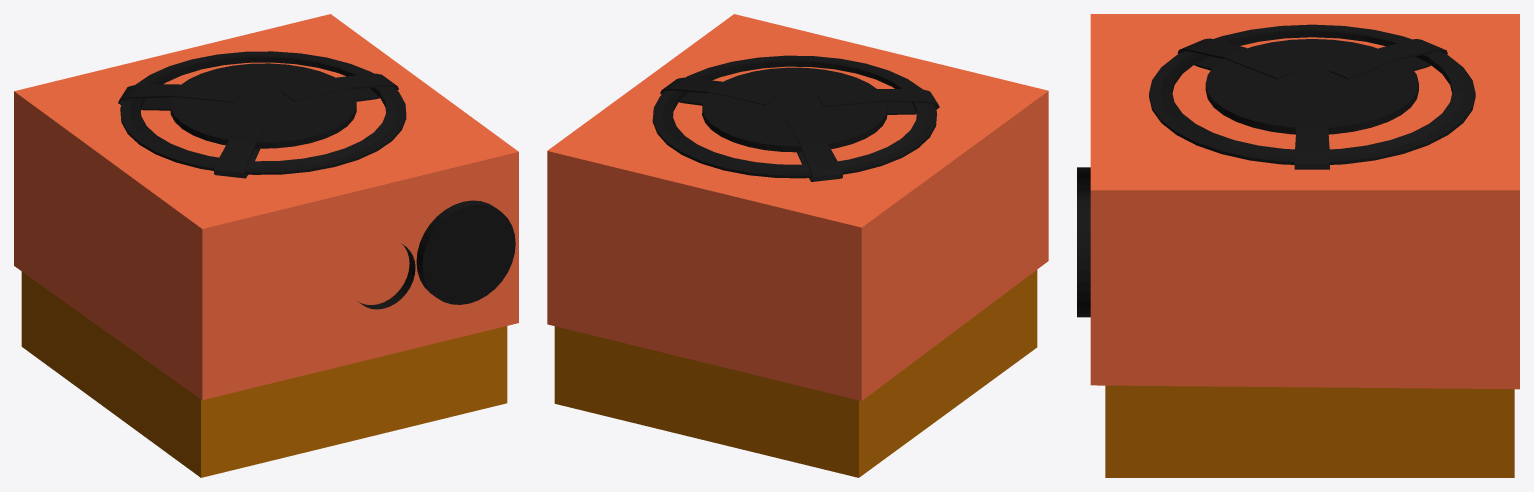
File: stove.fbx
The picture shows the model from 3 angles, left to right: view 1: azimuth 30°, elevation 25°; view 2: azimuth 150°, elevation 25°; view 3: azimuth 270°, elevation 25°; orthographic projection. The views are drawn at different scales.
Parts seen in each view (by area): view 1: Countertop1.001, firePlace, button2, grid, Plane.001, Plane.002, Plane; view 2: Countertop1.001, firePlace, grid, Plane.002, Plane.001, Plane; view 3: Countertop1.001, firePlace, grid, Plane, button2, Plane.002, Plane.001.
Boxes of the visible parts, <box> form: Countertop1.001: <box>14,14,518,477</box>; firePlace: <box>170,63,356,148</box>; button2: <box>357,200,515,309</box>; grid: <box>120,51,406,174</box>; Plane.001: <box>214,113,270,178</box>; Plane.002: <box>118,84,240,110</box>; Plane: <box>282,73,398,101</box>; Countertop1.001: <box>547,14,1048,477</box>; firePlace: <box>702,67,887,152</box>; grid: <box>652,55,936,178</box>; Plane.002: <box>786,117,842,181</box>; Plane.001: <box>818,89,939,114</box>; Plane: <box>660,77,776,105</box>; Countertop1.001: <box>1090,14,1519,477</box>; firePlace: <box>1205,39,1418,134</box>; grid: <box>1149,24,1475,164</box>; Plane: <box>1294,96,1329,169</box>; button2: <box>1077,167,1090,317</box>; Plane.002: <box>1329,39,1447,79</box>; Plane.001: <box>1177,38,1295,78</box>.
Size of the model in its own units: 589 by 484 by 626.
